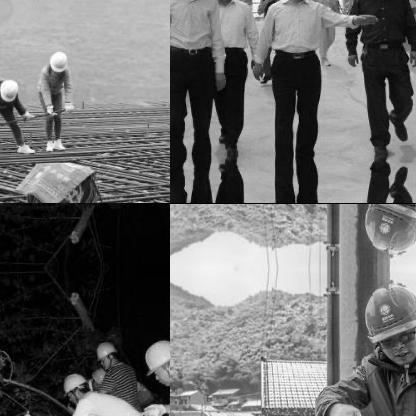Helmet: (356, 275, 415, 367), (356, 203, 415, 260), (141, 333, 169, 383), (60, 368, 89, 402), (92, 337, 119, 367), (47, 44, 69, 74), (0, 75, 20, 100), (87, 366, 107, 390)
